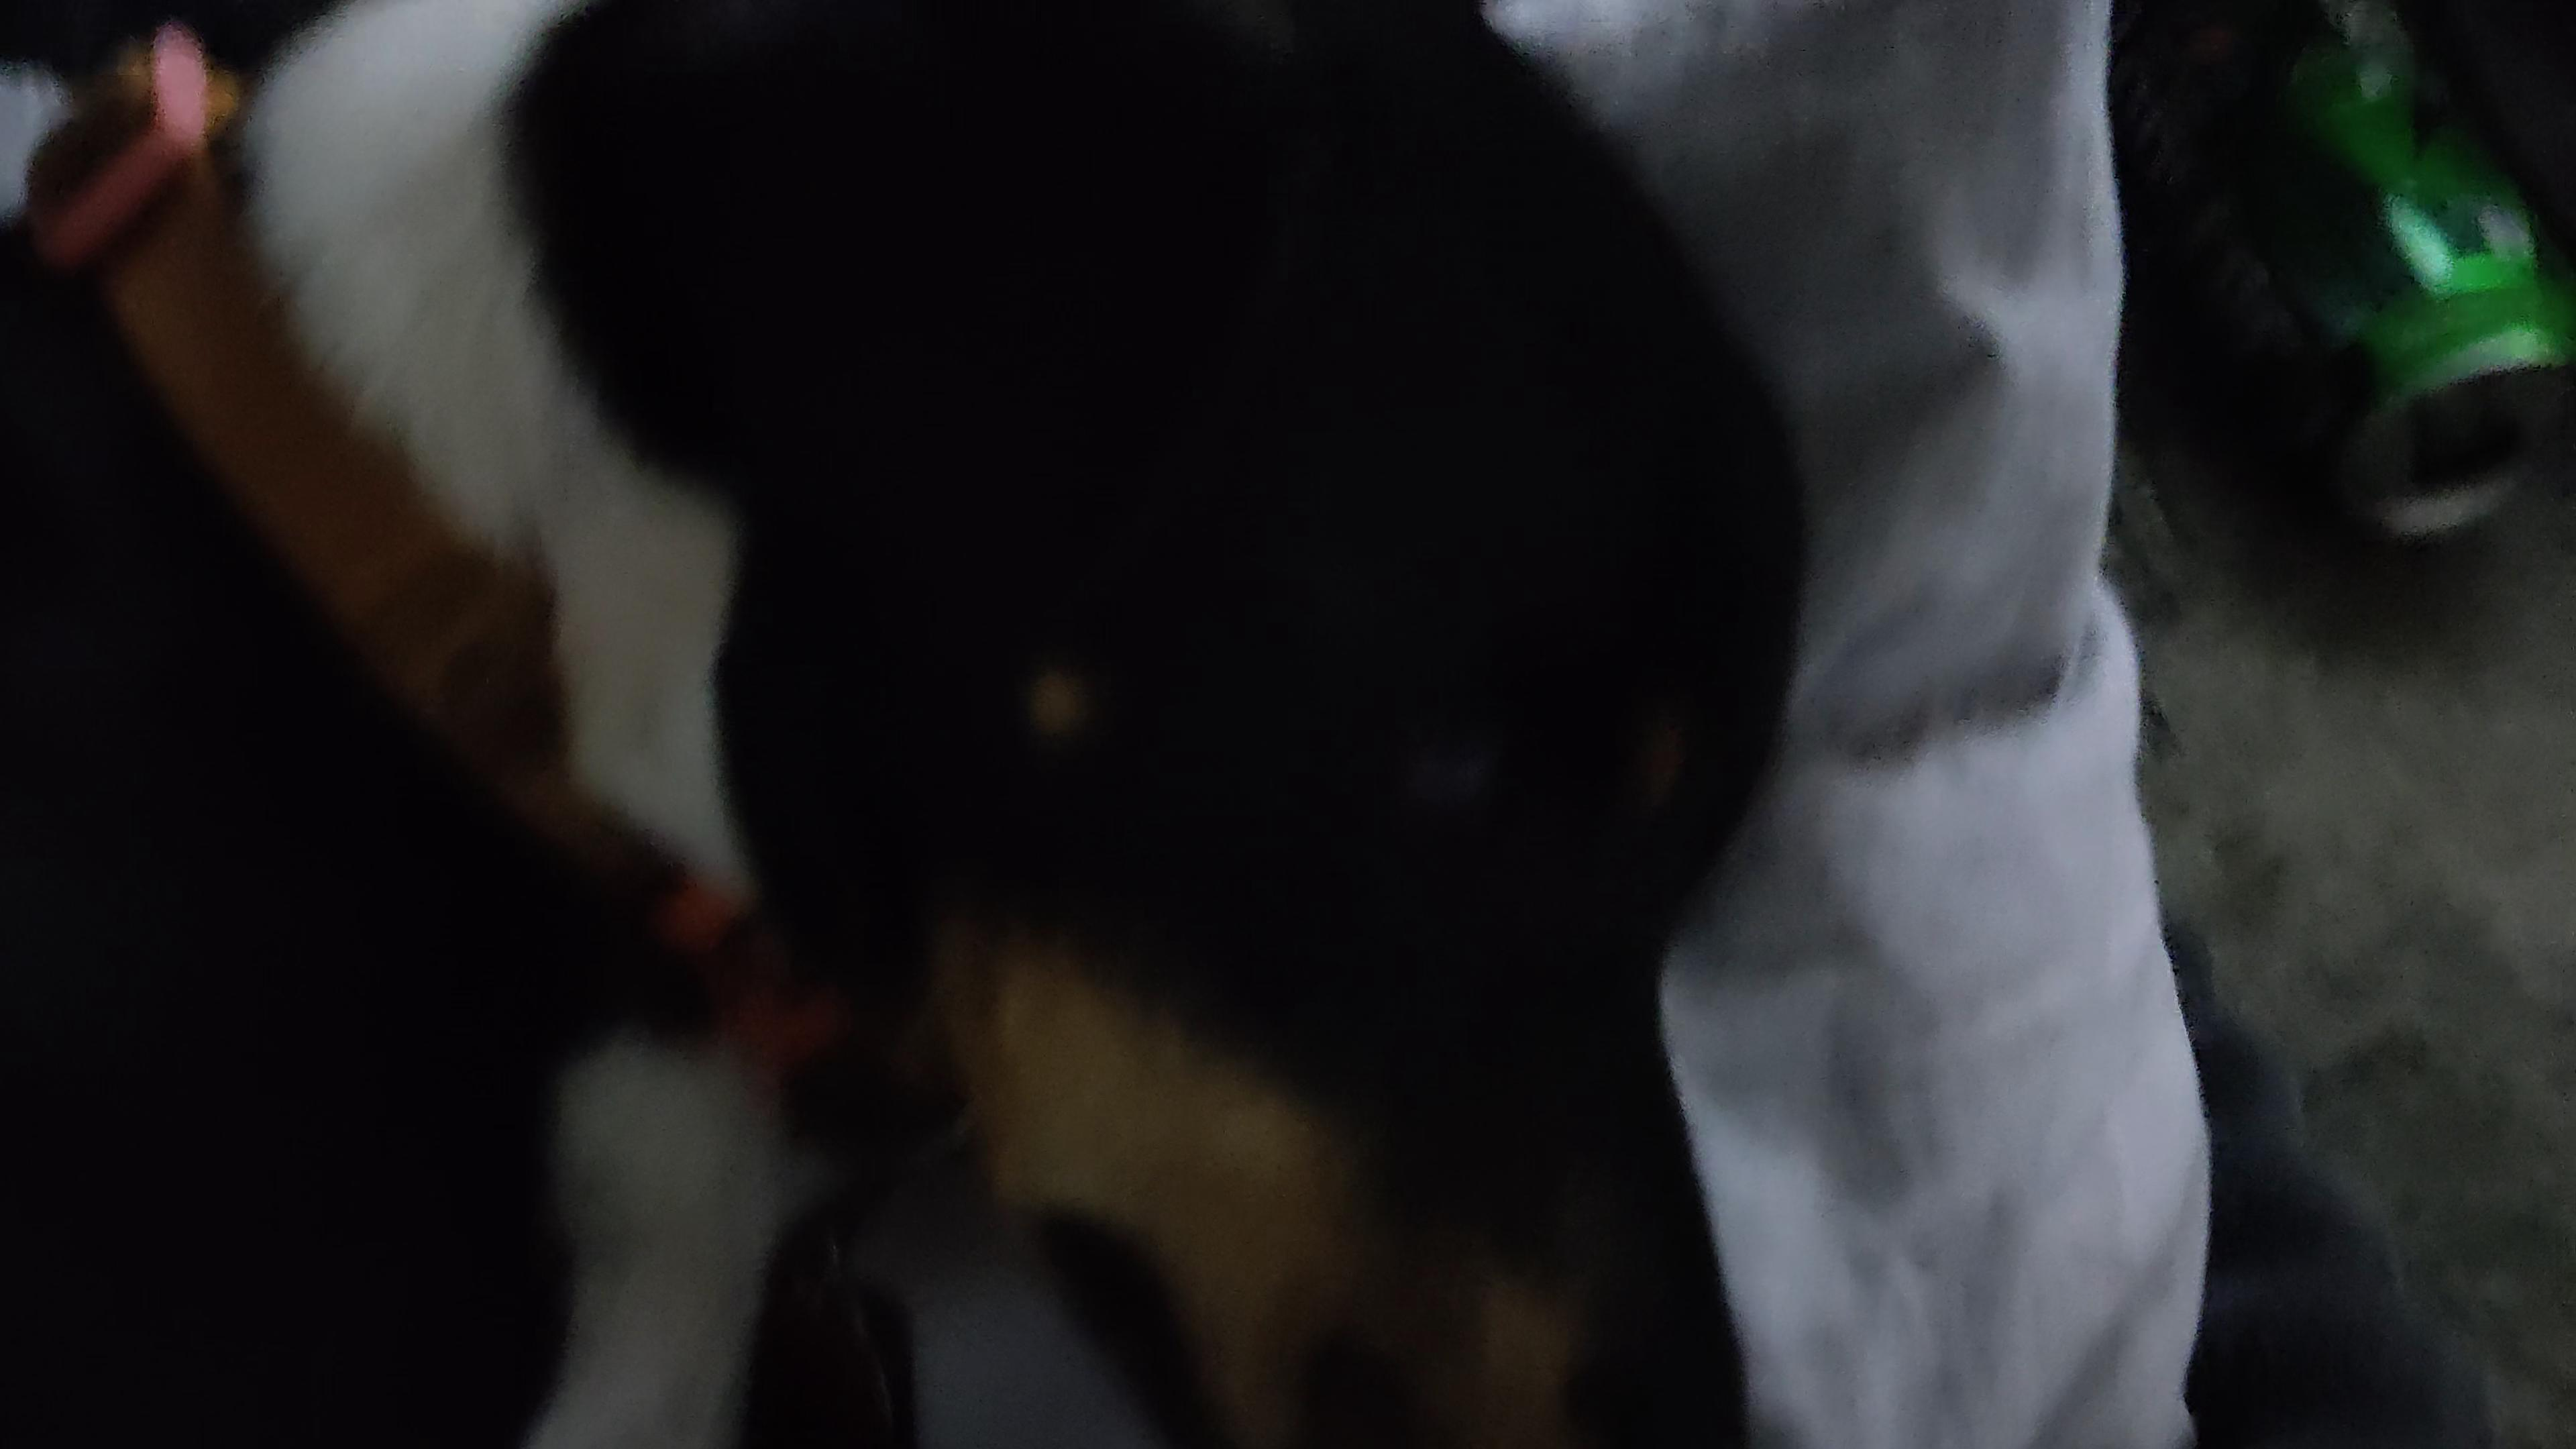Dog: (0, 0, 1831, 1449)
